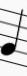note: (1, 3, 24, 68)
